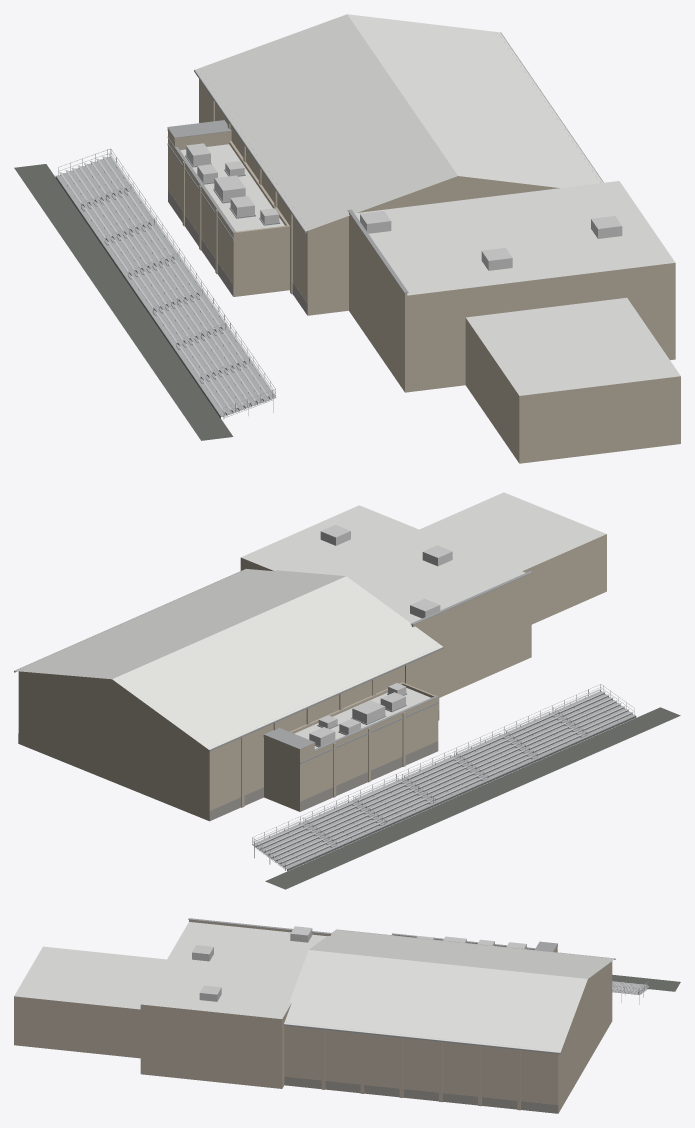
3 renders of one model, top to bottom at view 1: azimuth 30°, elevation 25°; view 2: azimuth 150°, elevation 25°; view 3: azimuth 270°, elevation 25°, orthographic. The views are drawn at different scales.
Parts seen in each view (by area): view 1: Panzer Athletic Center west side (BACKDROP; LiDAR/ortho mass, SF east bleachers (ortho footprint; 9 rows, heights APPROX), SF east sideline strip (ortho grey strip; asphalt APPROX); view 2: Panzer Athletic Center west side (BACKDROP; LiDAR/ortho mass, SF east bleachers (ortho footprint; 9 rows, heights APPROX), SF east sideline strip (ortho grey strip; asphalt APPROX); view 3: Panzer Athletic Center west side (BACKDROP; LiDAR/ortho mass, SF east sideline strip (ortho grey strip; asphalt APPROX), SF east bleachers (ortho footprint; 9 rows, heights APPROX).
Part boxes in pixels (x1,y1,x2,y2): Panzer Athletic Center west side (BACKDROP; LiDAR/ortho mass: (167,14,680,463); SF east bleachers (ortho footprint; 9 rows, heights APPROX): (55,148,276,418); SF east sideline strip (ortho grey strip; asphalt APPROX): (14,164,233,440); Panzer Athletic Center west side (BACKDROP; LiDAR/ortho mass: (14,492,606,821); SF east bleachers (ortho footprint; 9 rows, heights APPROX): (252,684,636,871); SF east sideline strip (ortho grey strip; asphalt APPROX): (265,707,680,889); Panzer Athletic Center west side (BACKDROP; LiDAR/ortho mass: (14,918,615,1113); SF east sideline strip (ortho grey strip; asphalt APPROX): (612,974,680,991); SF east bleachers (ortho footprint; 9 rows, heights APPROX): (612,981,649,1004).
Bounding box in the file's own units: 74.54 × 17.75 × 110.
